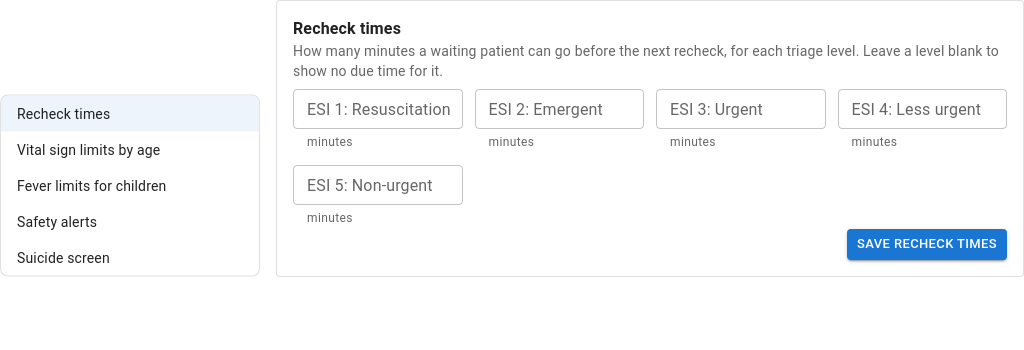
Test: TriageSettings › a bad number is stopped before it is sent
The image size is (1024, 350).
Type "0" into the field with test id "gap-3" at (741,109), box [656,89,826,129]
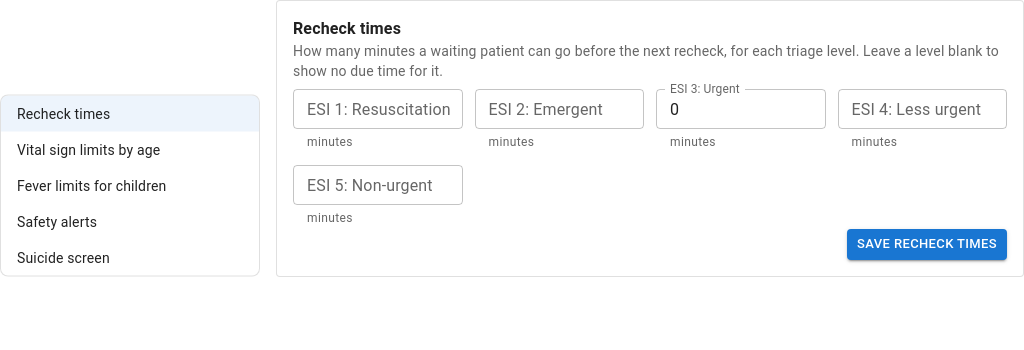
Click the button "Save recheck times" at (927,244), box [847,229,1007,260]
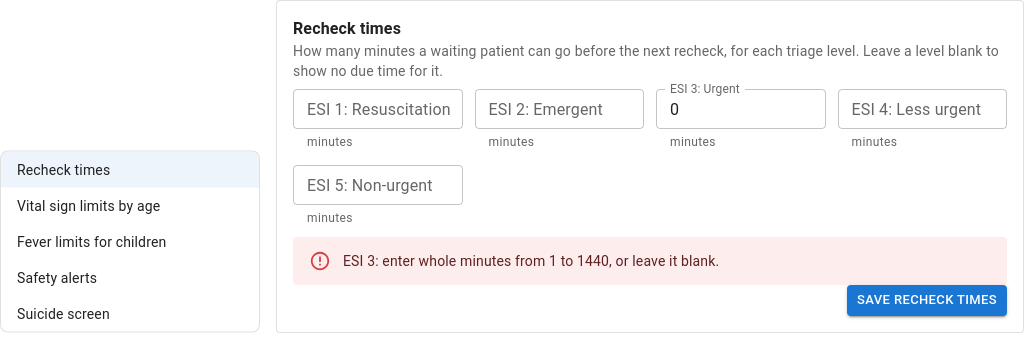
Check: the message with test id "settings-error" shows "ESI 3", box [343,253,719,269]
